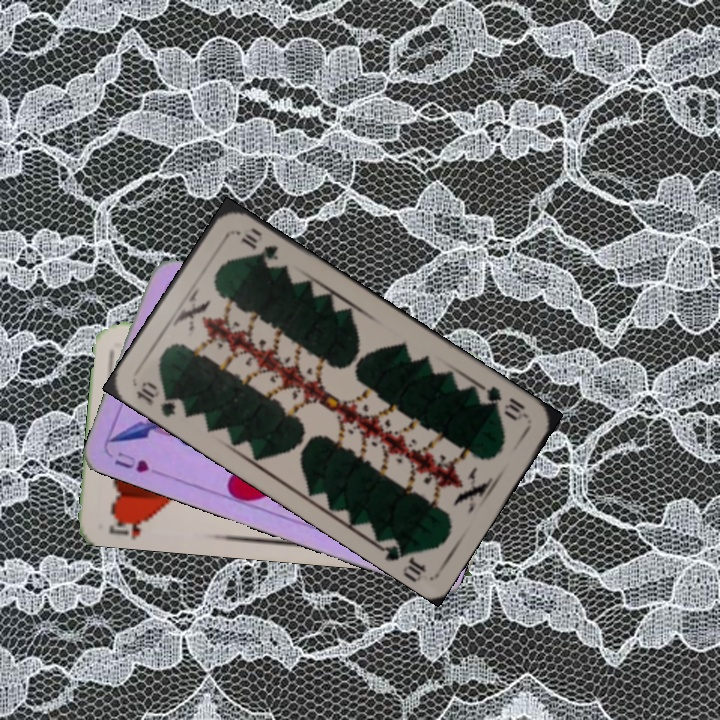G10: (478, 381, 531, 424), (132, 376, 180, 420)
HO: (105, 512, 156, 541)
HU: (110, 447, 152, 475)
